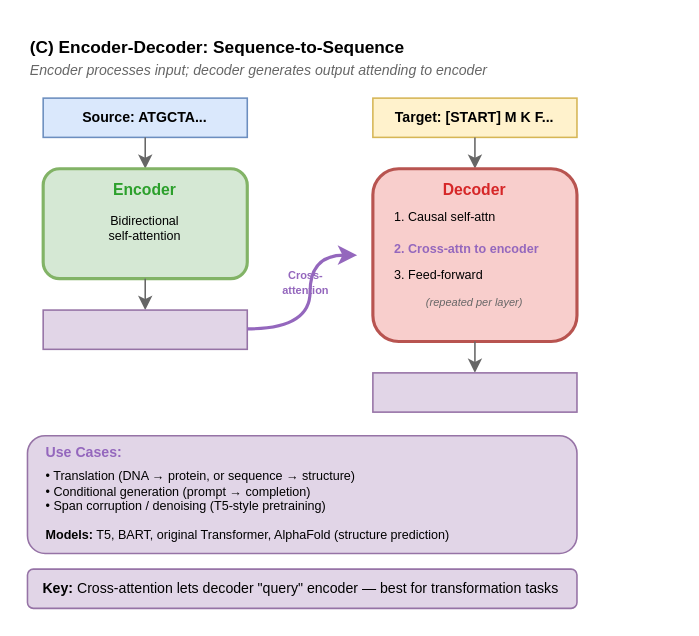
Some shapes in this 699 by 636 pixel diagram are drawn without their labels. Here are the shapes that lost their labels. From the top down, the centre of each, then its label:
the point at 144,329: Encoder representations
the point at 474,391: Output: M K F L...
